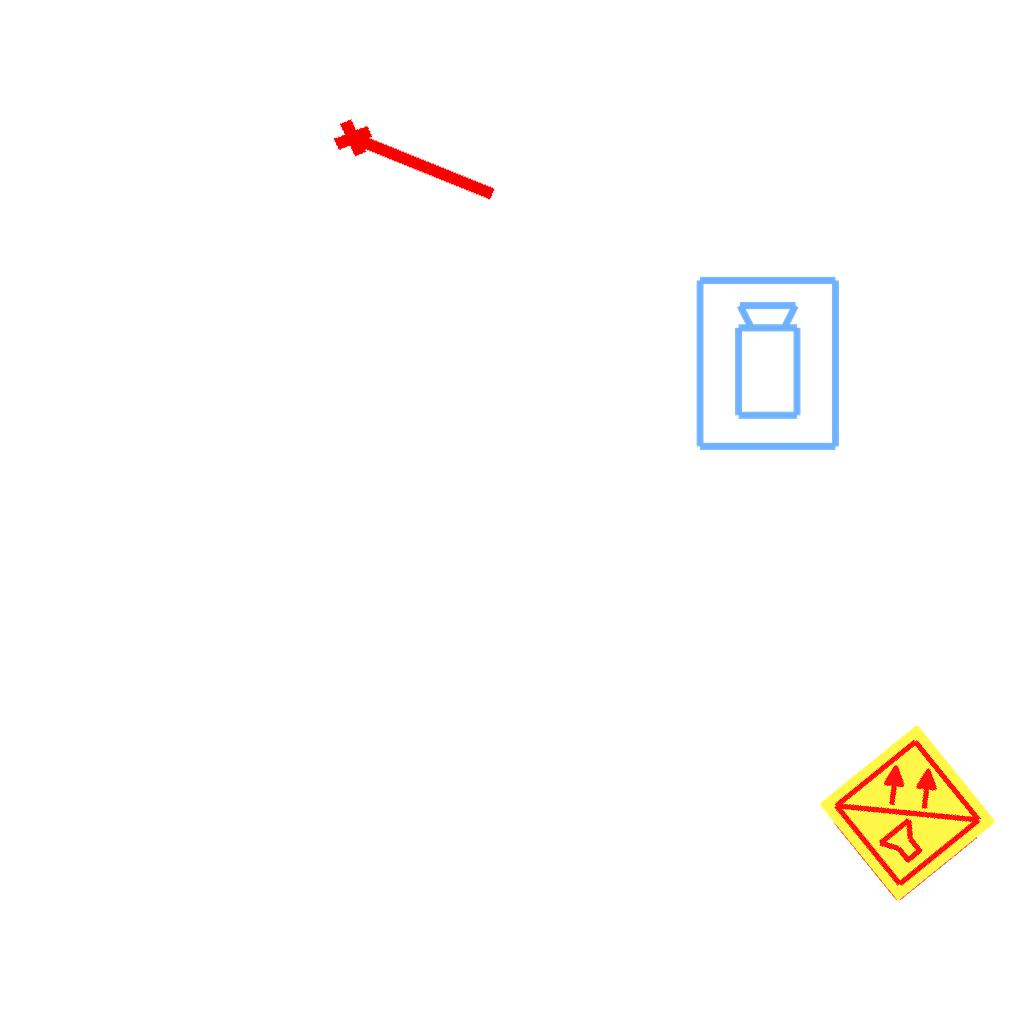ASR_Ansaugoeffnung: (326, 106, 508, 216)
KFO_Kamera_mit_Festobjektiv: (692, 273, 846, 455)
OKW_Multisensormelder_(Kombination_optischer_Rauch-Kahlenmonoxid_Waerme-Melder): (815, 720, 1001, 906)
